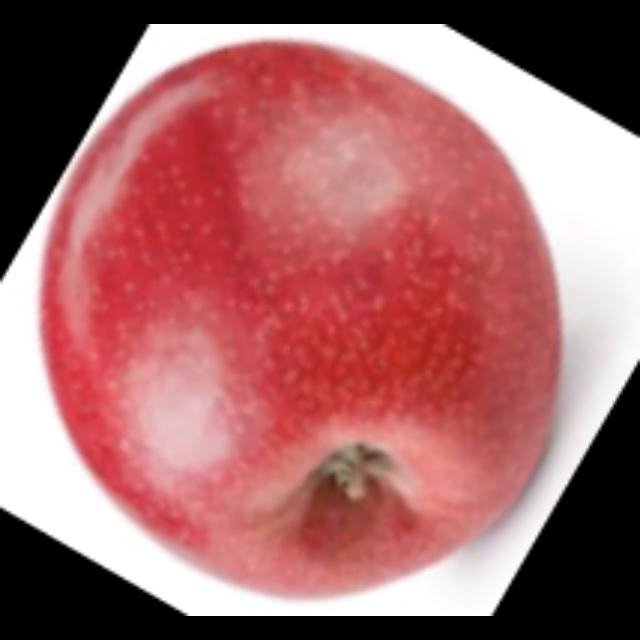Apel Segar: (26, 28, 574, 612)
